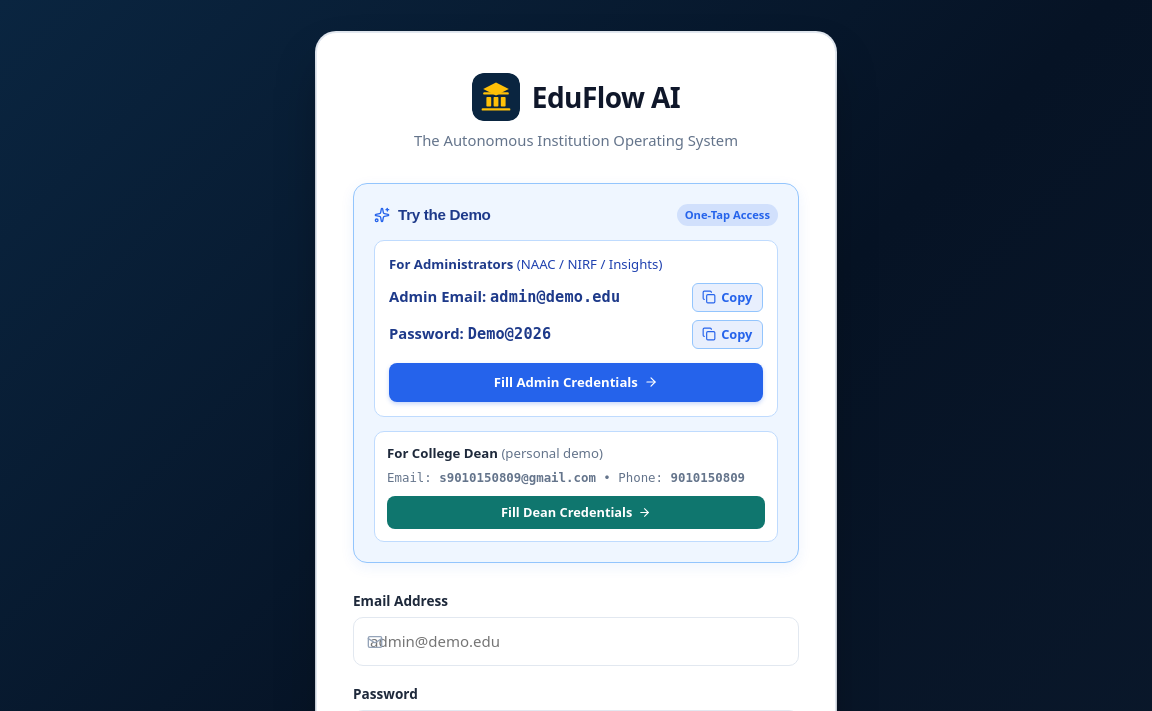
Test: LoginPage Component › Clicking "Fill Admin Credentials" populates email with admin@demo.edu
This screenshot has width=1152, height=711.
Click the button "Fill Admin Credentials". click: (576, 382)
box: [389,363,763,402]
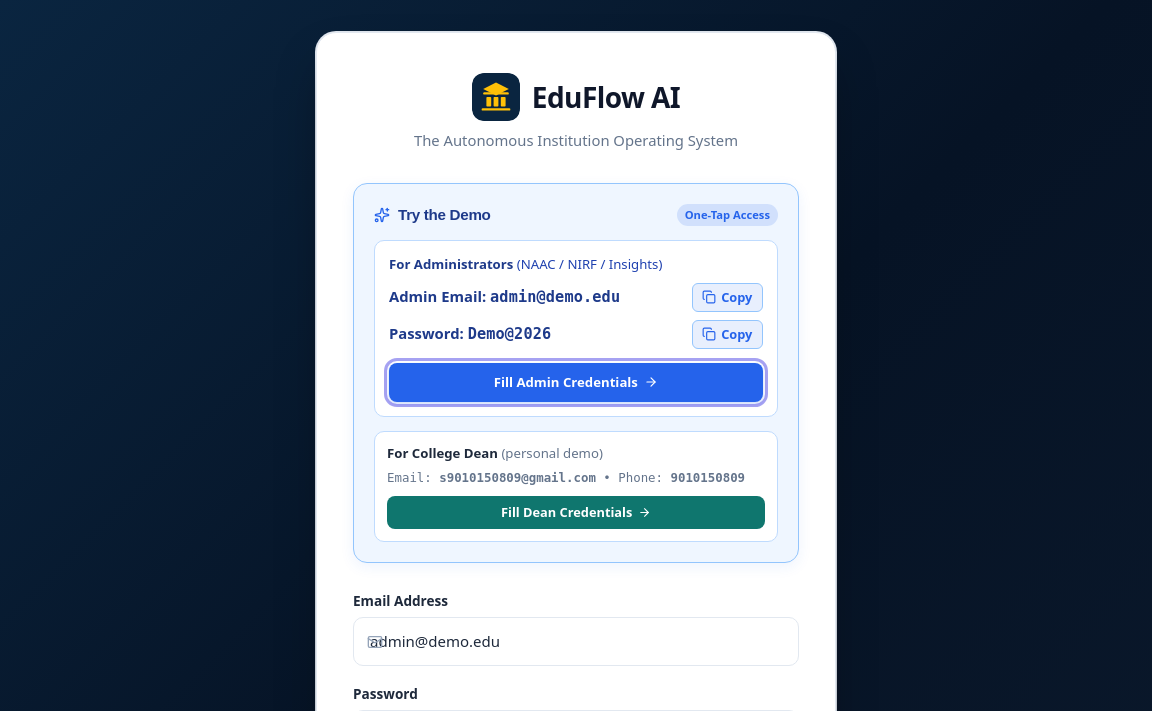
Now the field labelled "Email Address" holds "admin@demo.edu", box [353,618,799,666]
